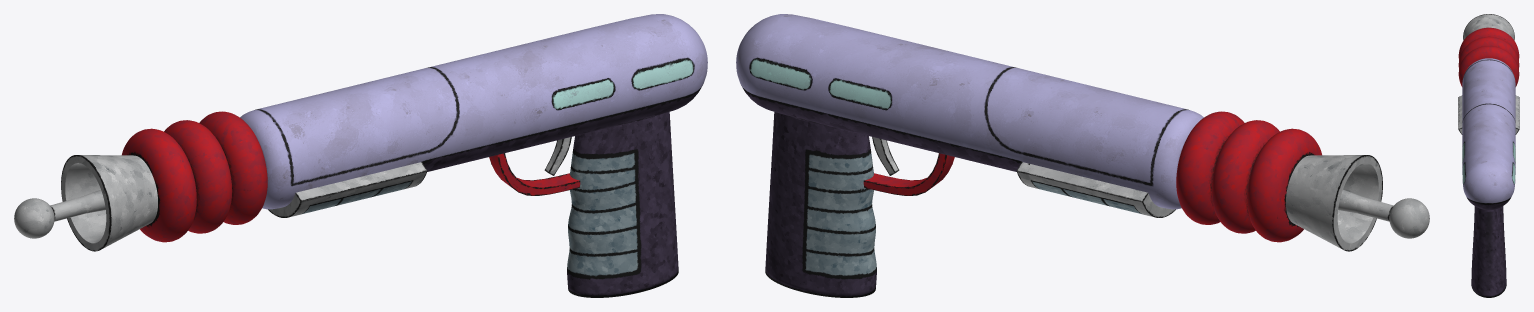
Rendered from LaserRifle.glb.
The picture shows the model from 3 angles, left to right: view 1: azimuth 30°, elevation 25°; view 2: azimuth 150°, elevation 25°; view 3: azimuth 270°, elevation 25°; orthographic projection. The views are drawn at different scales.
Visible parts, largest first — view 1: LaserRifle.001; view 2: LaserRifle.001; view 3: LaserRifle.001.
Boxes of the visible parts, <box> form: LaserRifle.001: <box>14,14,707,297</box>; LaserRifle.001: <box>736,14,1429,297</box>; LaserRifle.001: <box>1458,14,1519,297</box>.
Bounding box in the file's own units: 155 × 56.31 × 22.92.
Materials: 4 (4 with a texture image).
